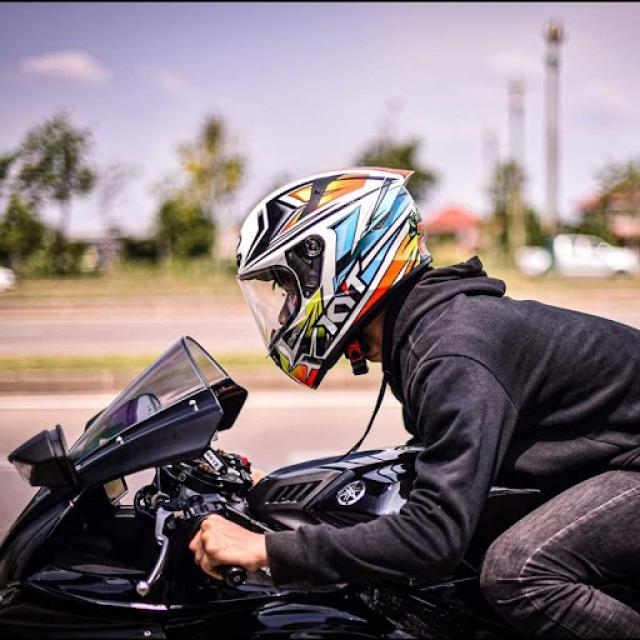helmet: (235, 167, 432, 390)
